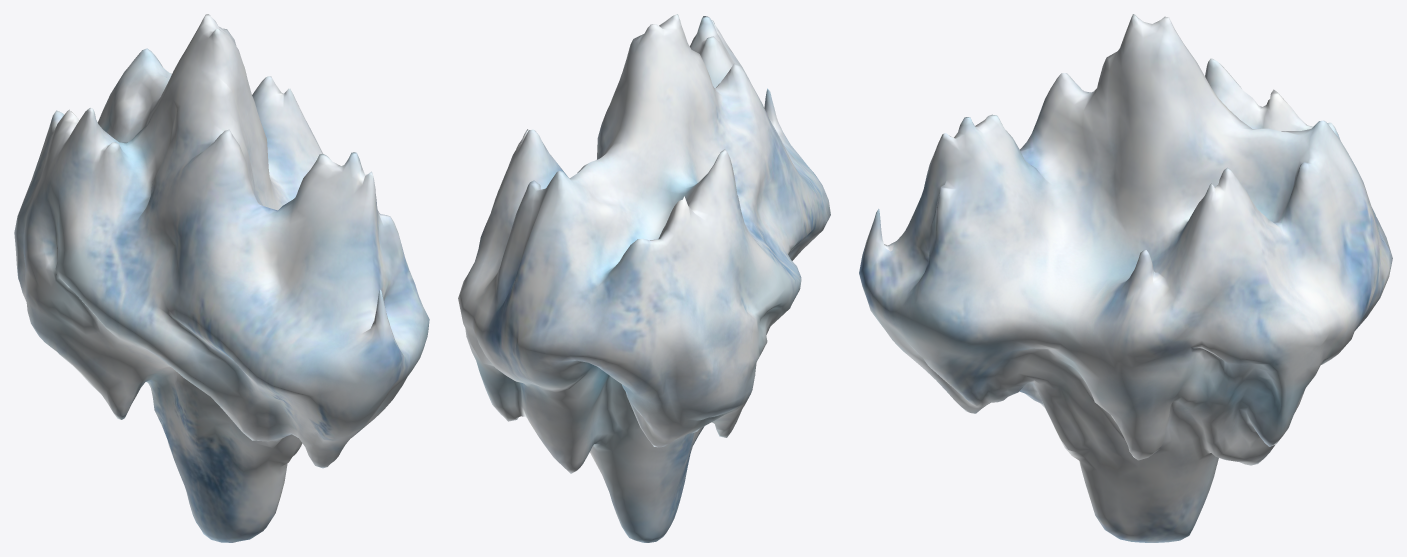
Rendered from shan.fbx.
3 views of the same model, side by side, from view 1: azimuth 30°, elevation 25°; view 2: azimuth 150°, elevation 25°; view 3: azimuth 270°, elevation 25° (orthographic).
Parts seen in each view (by area): view 1: shan:shan:polySurface2; view 2: shan:shan:polySurface2; view 3: shan:shan:polySurface2.
Boxes of the visible parts, box(x1,y1,x2,y2) form: shan:shan:polySurface2: box(14, 14, 429, 542); shan:shan:polySurface2: box(458, 14, 830, 542); shan:shan:polySurface2: box(859, 14, 1392, 542).
Bounding box in the file's own units: 49.12 × 83.72 × 77.67.
1 material, 1 textured.
